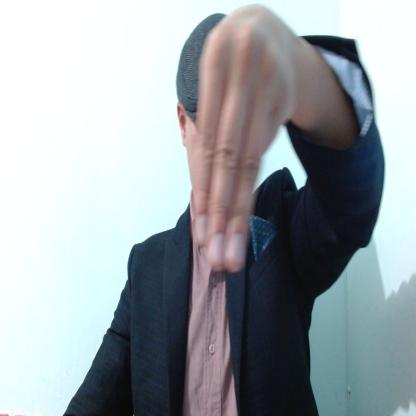M: (196, 7, 300, 272)
